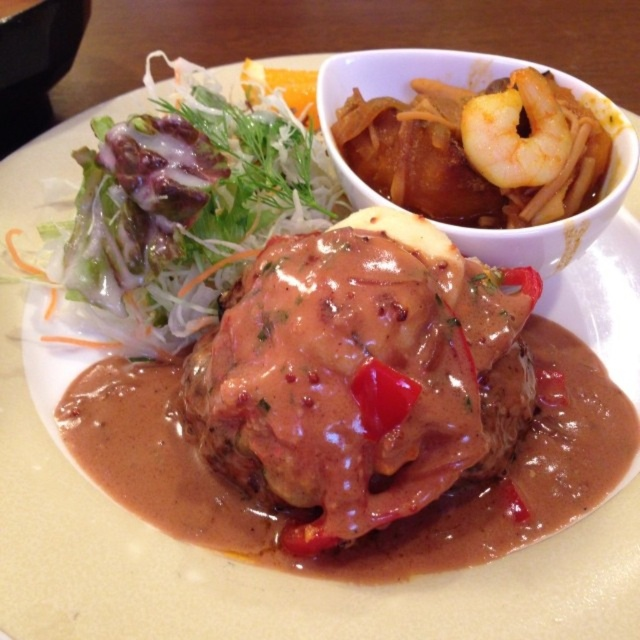Shrimp: (463, 59, 576, 190)
